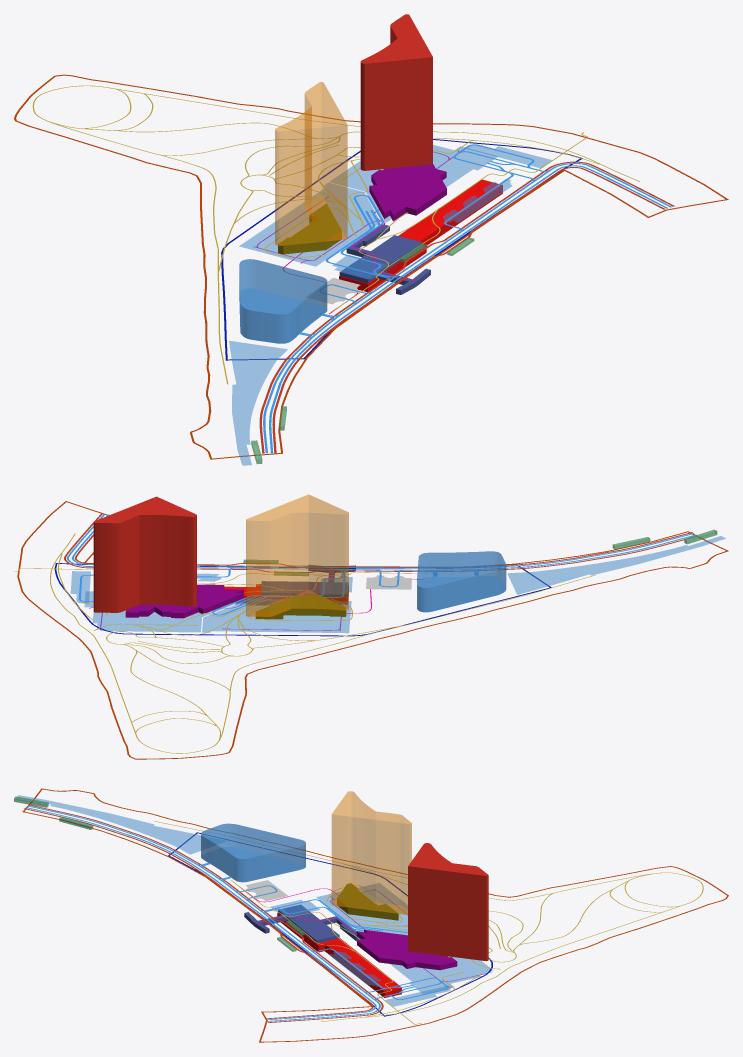
File: MODEL_LAYERS.FBX
The picture shows the model from 3 angles, top to bottom: view 1: azimuth 30°, elevation 25°; view 2: azimuth 150°, elevation 25°; view 3: azimuth 270°, elevation 25°; orthographic projection. The views are drawn at different scales.
Parts seen in each view (by area): view 1: L_NZ_LIVEHOUSE-RENOV, L_NZ_LIVEHOUSE-KOMERC, L_NZ_ParkingBuilding, L_NZ_Parking, L_TrafficPedestrians, L_TrafficCar, L_NZ_ParkingUndRenovac, L_NZ_PPT, L_NZ_TC, L_NZ_Subway_Station, L_Traffic_NGPT, L_NZ_ParkingUndKomerc (+6 smaller); view 2: L_NZ_LIVEHOUSE-RENOV, L_NZ_LIVEHOUSE-KOMERC, L_NZ_ParkingBuilding, L_TrafficPedestrians, L_NZ_Parking, L_NZ_ParkingUndRenovac, L_TrafficCar, L_NZ_PPT, L_NZ_ParkingUndKomerc, L_NZ_TC, L_Traffic_NGPT, L_NZ_DOU (+7 smaller); view 3: L_NZ_LIVEHOUSE-RENOV, L_NZ_LIVEHOUSE-KOMERC, L_NZ_ParkingBuilding, L_NZ_Parking, L_TrafficCar, L_TrafficPedestrians, L_NZ_PPT, L_NZ_TC, L_NZ_Subway_Station, L_NZ_ParkingUndRenovac, L_Traffic_NGPT, L_NZ_ParkingUndKomerc (+7 smaller).
Part boxes in pixels (x1,y1,x2,y2): L_NZ_LIVEHOUSE-RENOV: (275, 82, 347, 245); L_NZ_LIVEHOUSE-KOMERC: (360, 14, 432, 170); L_NZ_ParkingBuilding: (239, 259, 327, 343); L_NZ_Parking: (229, 145, 551, 465); L_TrafficPedestrians: (32, 85, 639, 384); L_TrafficCar: (263, 144, 671, 453); L_NZ_ParkingUndRenovac: (239, 183, 380, 266); L_NZ_PPT: (14, 74, 728, 459); L_NZ_TC: (369, 164, 446, 221); L_NZ_Subway_Station: (339, 179, 502, 291); L_Traffic_NGPT: (259, 161, 674, 453); L_NZ_ParkingUndKomerc: (330, 145, 497, 222); L_NZ_LIVEHOUSE-RENOV: (246, 494, 348, 616); L_NZ_LIVEHOUSE-KOMERC: (93, 496, 196, 612); L_NZ_ParkingBuilding: (417, 551, 506, 612); L_TrafficPedestrians: (14, 533, 595, 753); L_NZ_Parking: (70, 536, 725, 603); L_NZ_ParkingUndRenovac: (202, 600, 351, 633); L_TrafficCar: (66, 513, 696, 615); L_NZ_PPT: (17, 501, 728, 759); L_NZ_ParkingUndKomerc: (84, 591, 246, 632); L_NZ_TC: (125, 584, 243, 618); L_Traffic_NGPT: (64, 513, 697, 572); L_NZ_DOU: (255, 595, 346, 619); L_NZ_LIVEHOUSE-RENOV: (331, 791, 411, 914); L_NZ_LIVEHOUSE-KOMERC: (408, 843, 488, 961); L_NZ_ParkingBuilding: (201, 823, 305, 882); L_NZ_Parking: (17, 795, 450, 1006); L_TrafficCar: (25, 805, 448, 1021); L_TrafficPedestrians: (154, 821, 703, 1024); L_NZ_PPT: (22, 788, 728, 1042); L_NZ_TC: (356, 929, 457, 970); L_NZ_Subway_Station: (277, 912, 401, 997); L_NZ_ParkingUndRenovac: (316, 883, 407, 935); L_Traffic_NGPT: (24, 804, 383, 1022); L_NZ_ParkingUndKomerc: (390, 956, 492, 993).
Size of what is drawn, in the model's own units: 559 by 114 by 664.
